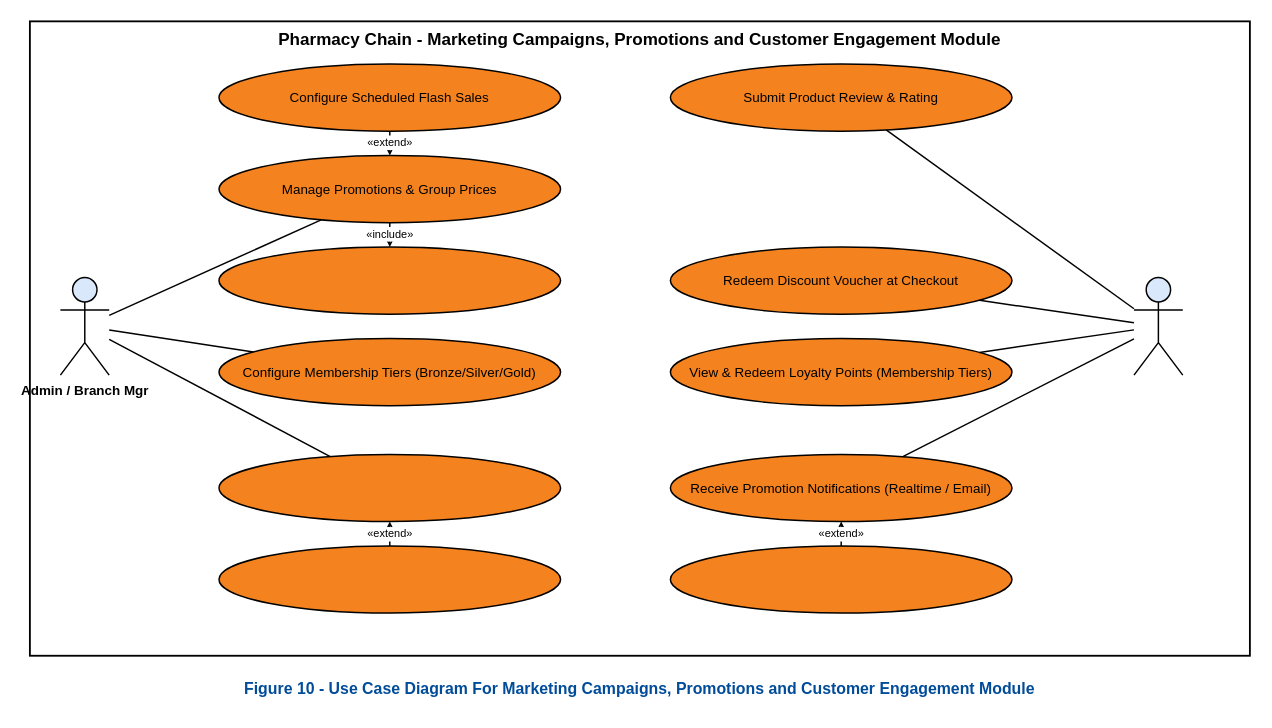
Some shapes in this 1272 by 728 pixel diagram are drawn without their labels. Here are the shapes that lost their labels. From the top down, the centre of each, then its label:
pixel 389 280: Create Condition-based Vouchers (Buy X Get Y, Combo)
pixel 1158 325: Customer
pixel 389 487: Send Automated Email Marketing (Newsletter)
pixel 389 579: Segment Customers by RFM Behavior
pixel 840 579: Receive Post-purchase Satisfaction Survey (Email)
